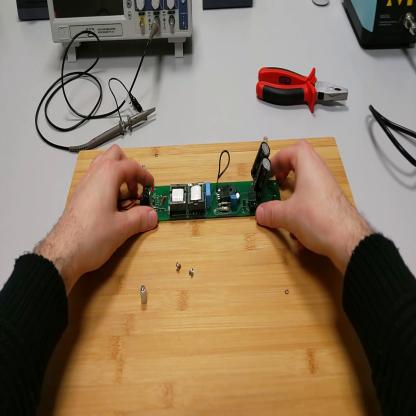hand: (63, 144, 158, 275), (262, 142, 345, 256)
high voltage board: (118, 142, 281, 223)
oscilloscope: (50, 2, 194, 64)
oscilloscope probe tip: (69, 101, 156, 151)
pliers: (255, 65, 349, 117)
socket: (17, 2, 51, 25)
welder station: (346, 2, 416, 50)
working area: (23, 135, 384, 416)
